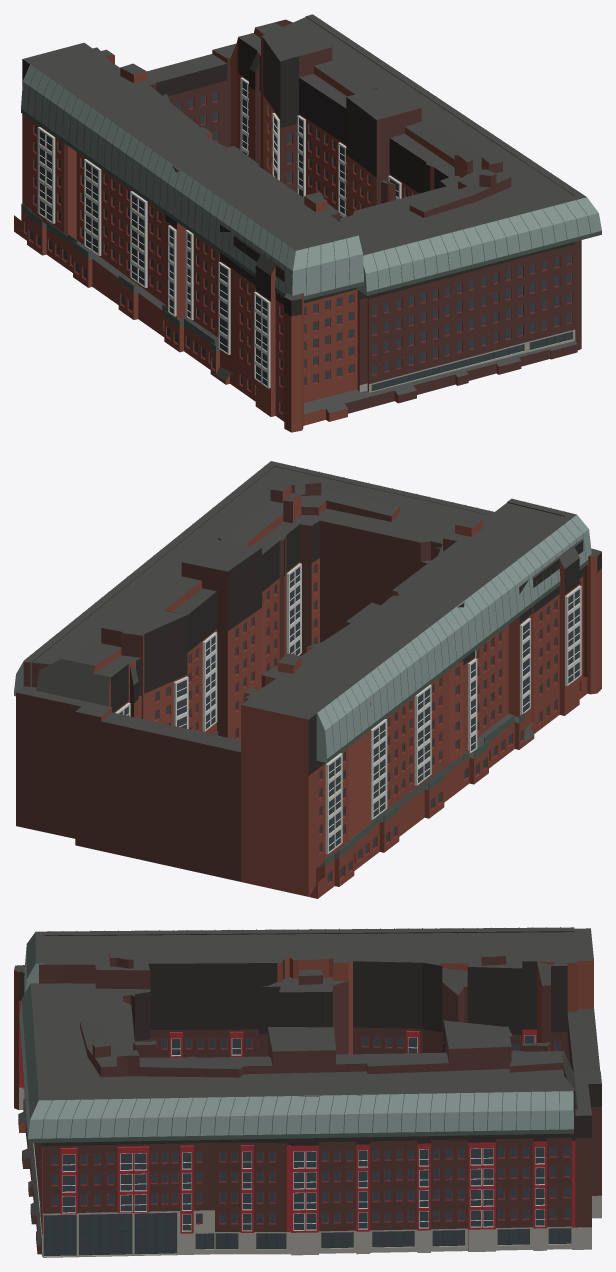
Rendered from pieter-de-hoochstraat-13.glb.
3 renders of one model, top to bottom at view 1: azimuth 30°, elevation 25°; view 2: azimuth 150°, elevation 25°; view 3: azimuth 270°, elevation 25°, orthographic. The views are drawn at different scales.
Visible parts, largest first — view 1: pieter-de-hoochstraat-13; view 2: pieter-de-hoochstraat-13; view 3: pieter-de-hoochstraat-13.
Boxes of the visible parts, box(x1,y1,x2,y2) form: pieter-de-hoochstraat-13: box(14, 14, 601, 432); pieter-de-hoochstraat-13: box(14, 461, 601, 898); pieter-de-hoochstraat-13: box(14, 927, 601, 1257).
Size of the model in its own units: 50.24 by 26.6 by 75.94.
